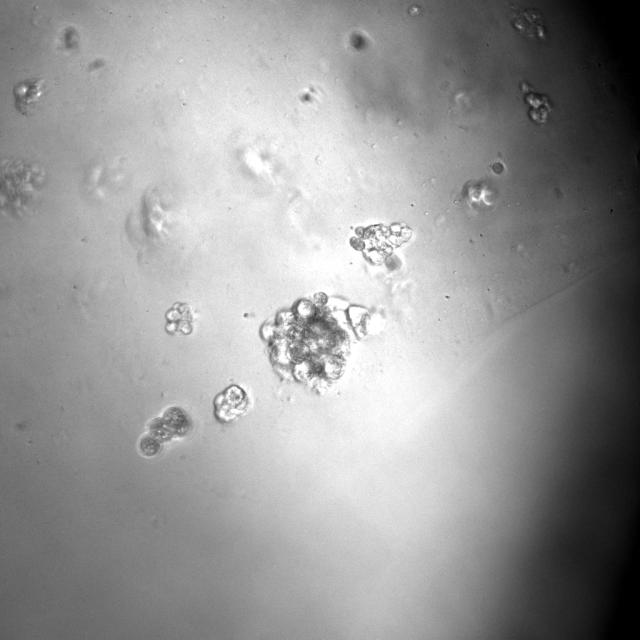organoid: (261, 292, 384, 393), (349, 222, 414, 271), (138, 406, 190, 458), (214, 385, 251, 423), (520, 81, 551, 123), (166, 302, 193, 334)
